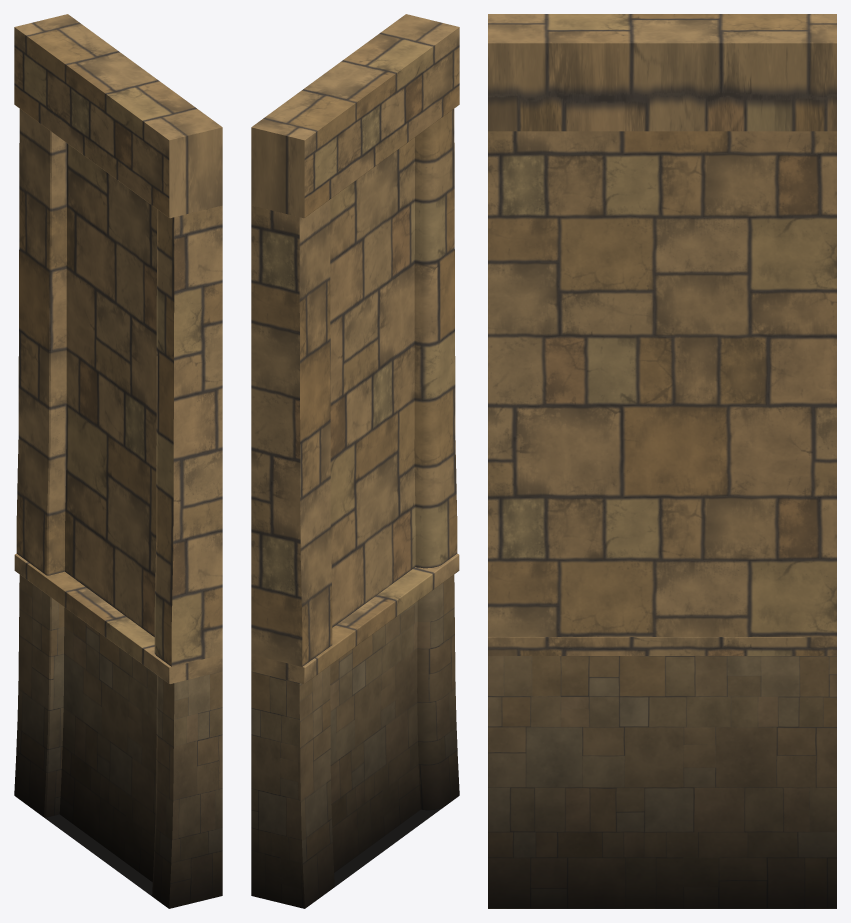
File: Wall.fbx
The picture shows the model from 3 angles, left to right: view 1: azimuth 30°, elevation 25°; view 2: azimuth 150°, elevation 25°; view 3: azimuth 270°, elevation 25°; orthographic projection. The views are drawn at different scales.
Visible parts, largest first — view 1: Wall; view 2: Wall; view 3: Wall.
Boxes of the visible parts, box(x1,y1,x2,y2) form: Wall: box(14, 14, 222, 908); Wall: box(251, 14, 459, 908); Wall: box(488, 14, 836, 908).
Bounding box in the file's own units: 100 × 1369 × 500.
